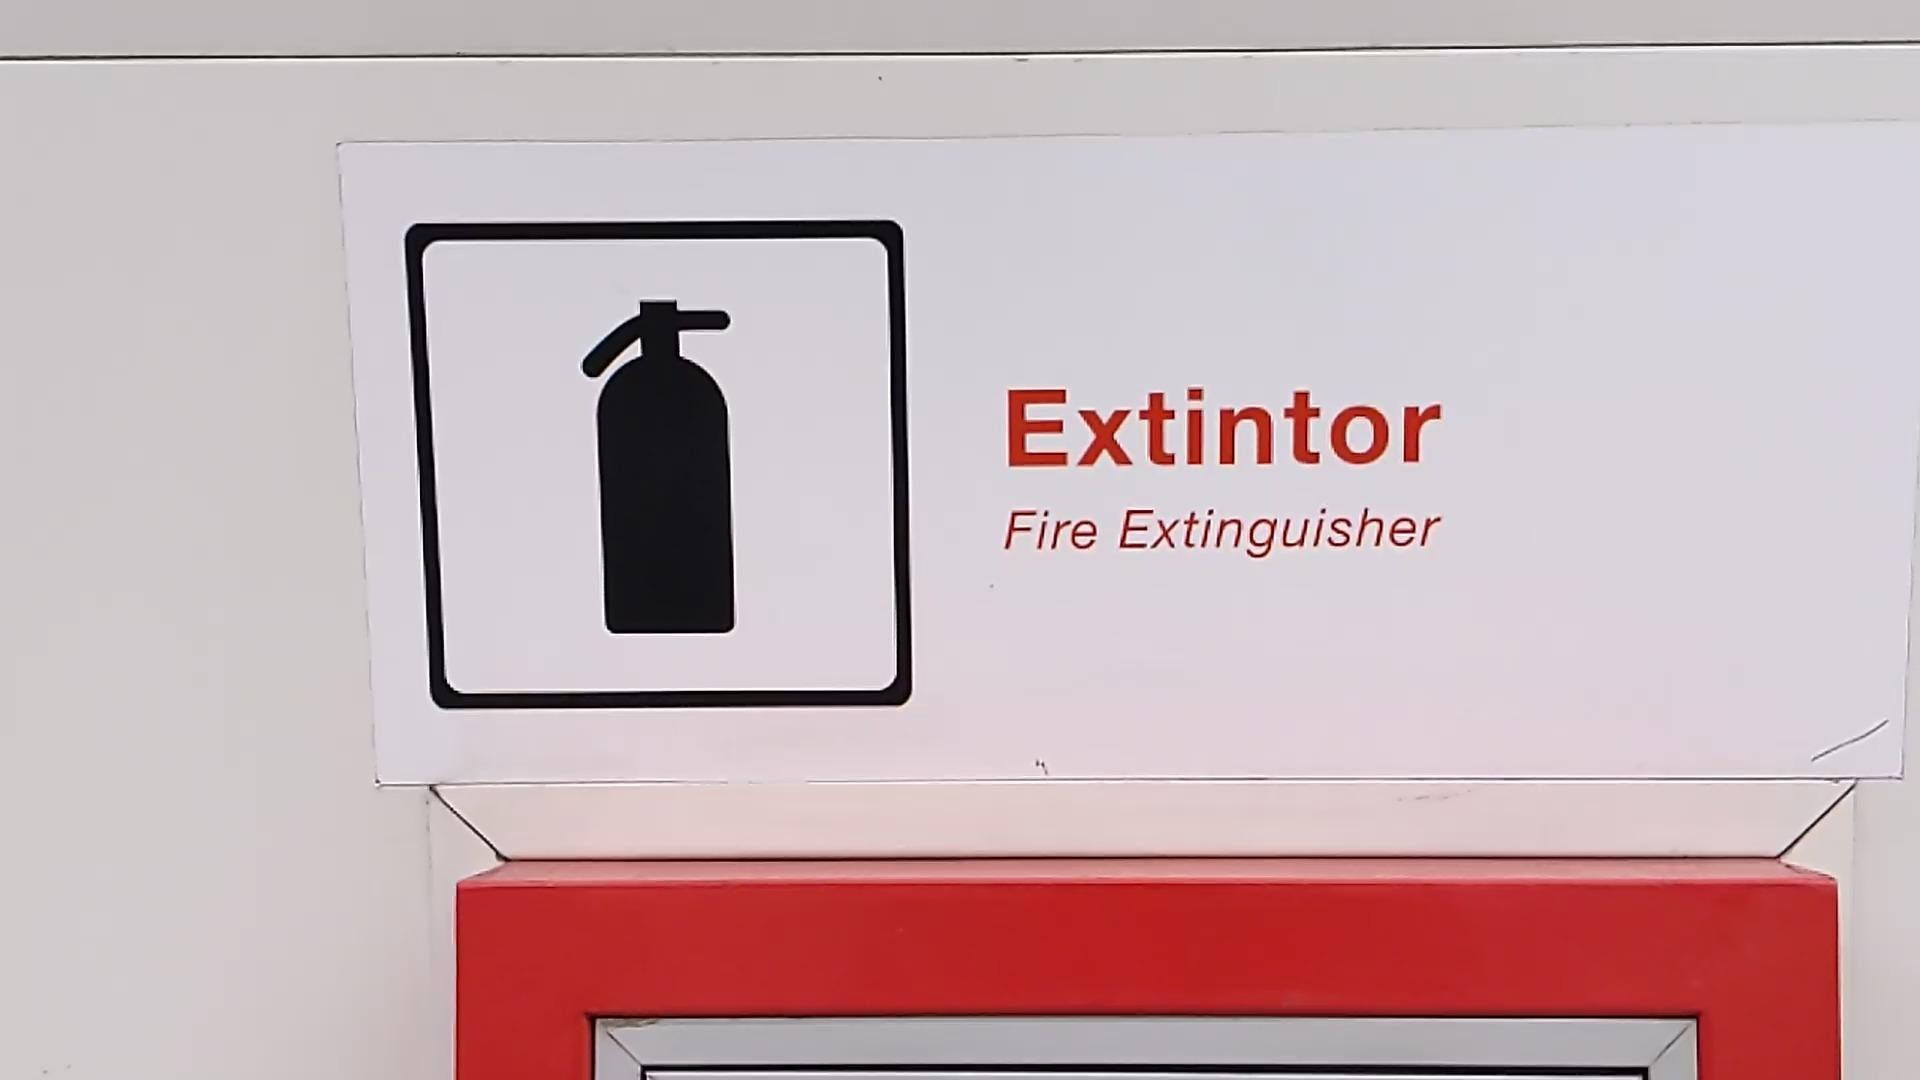extinguisher symbol: (578, 295, 742, 638)
